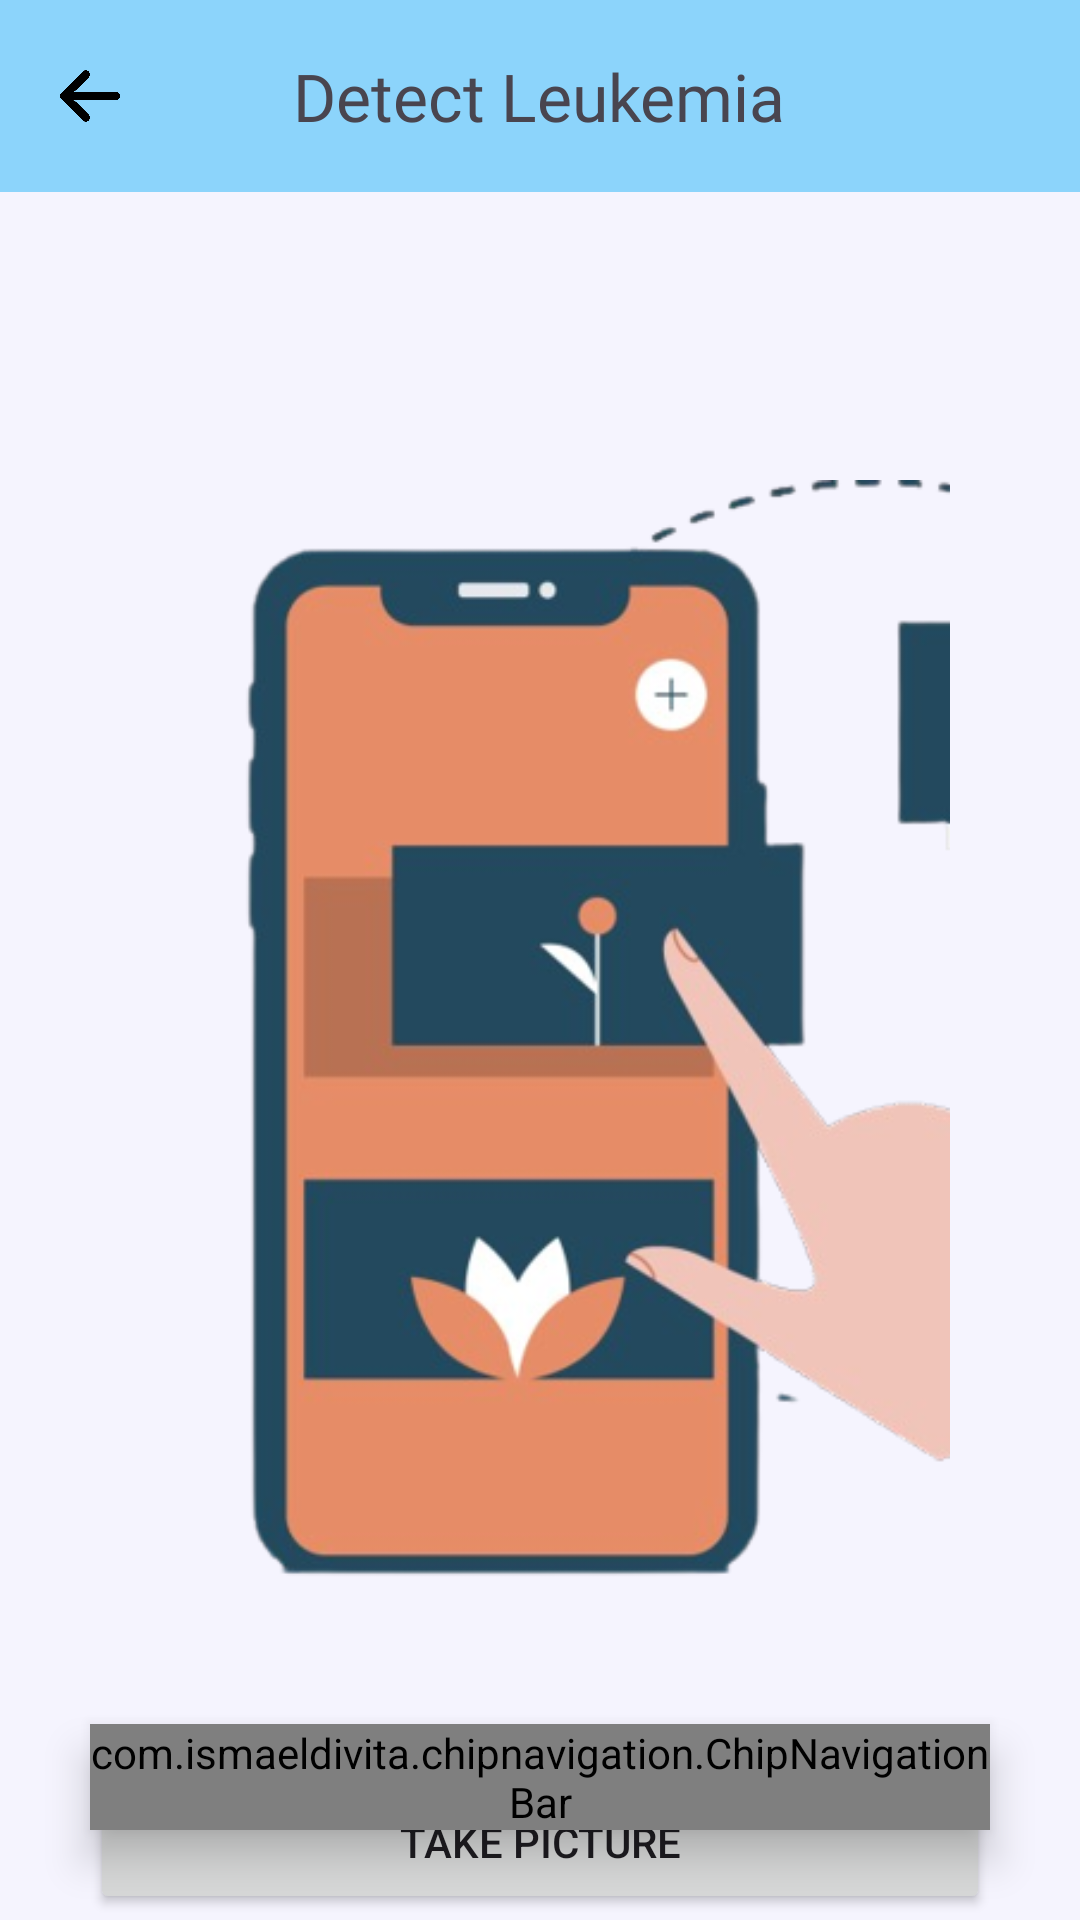

Icons on this 1080 x 1920 Android screen, each with its box as region(x1, y1, x2, y2):
arrow: region(60, 70, 120, 122)
